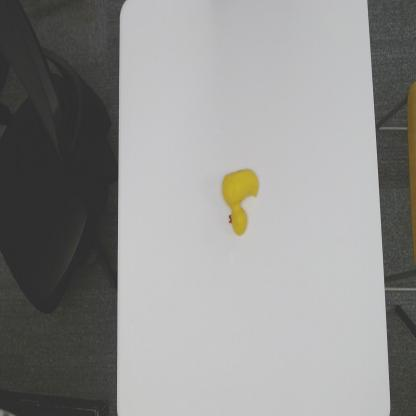Duck: (221, 166, 260, 238)
